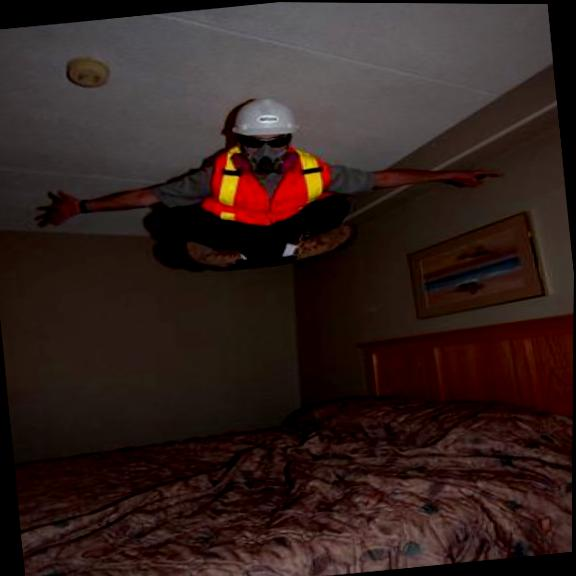safety_vest: (193, 133, 338, 233)
